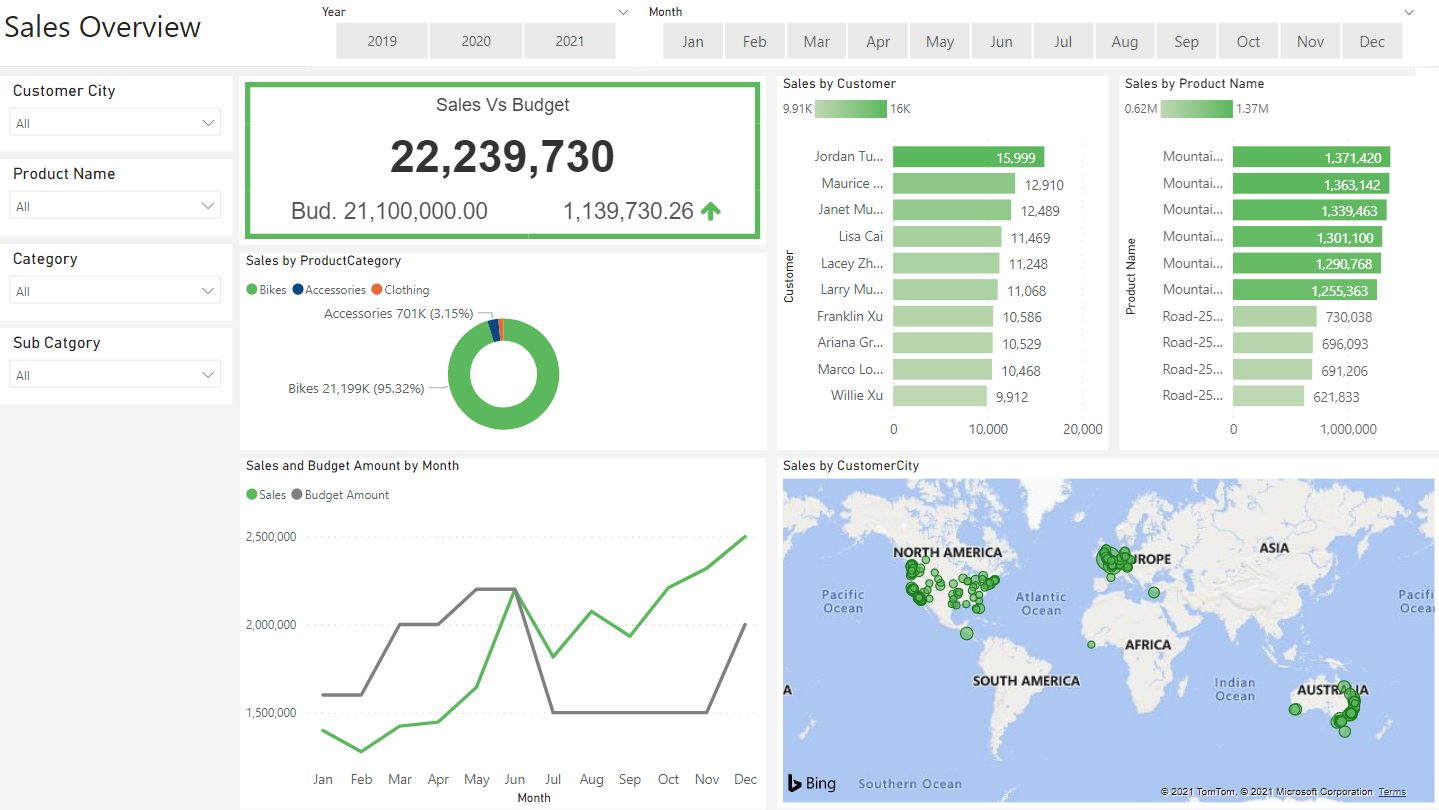

What the dashboard file says about the page in this screenshot:
{"tool":"powerbi","page":{"name":"Sales Overview","canvas":[1280,720],"ordinal":0},"visuals":[{"type":"textbox","box":[0,0,1280,60],"z":0},{"type":"slicer","fields":{"Values":["DIM_Customer.CustomerCity"]},"box":[0,68.1,208.1,67.1],"z":1000},{"type":"slicer","title":"Sub Category","fields":{"Values":["DIM_Product.ProductSubCategory"]},"box":[0,292.1,207.7,68.4],"z":2000},{"type":"slicer","title":"Sub Category","fields":{"Values":["DIM_Product.ProductCategory"]},"box":[0,217.5,207.7,68.4],"z":3000},{"type":"slicer","title":"Sub Category","fields":{"Values":["DIM_Product.ProductName"]},"box":[0,142,207.7,68.4],"z":4000},{"type":"slicer","fields":{"Values":["DIM_Calendar.Year"]},"box":[274.2,0,298.2,60],"z":5000},{"type":"slicer","fields":{"Values":["DIM_Calendar.MonthShort"]},"box":[564.4,0,705.6,60],"z":6000},{"type":"BBED0A4D4D8D44CE93CF2DAFADEE466C","fields":{"actual":["Key Measures.Sales"],"target1":["Key Measures.Budget Amount"],"target2":["Key Measures.Sales - Budgets"]},"box":[214,68.4,467.9,150],"z":7000},{"type":"donutChart","fields":{"Category":["DIM_Product.ProductCategory"],"Y":["Key Measures.Sales"]},"box":[214.8,225.5,467.9,174.9],"z":8000},{"type":"lineChart","fields":{"Y":["Key Measures.Sales","Key Measures.Budget Amount"],"Category":["DIM_Calendar.MonthShort"]},"box":[214.8,407.5,467,311.6],"z":9000},{"type":"barChart","fields":{"Y":["Key Measures.Sales"],"Category":["DIM_Customer.FullName"]},"box":[691.6,68.4,293.9,332],"z":10000},{"type":"barChart","fields":{"Y":["Key Measures.Sales"],"Category":["DIM_Product.ProductName"]},"box":[995.2,68.4,285,332],"z":11000},{"type":"map","fields":{"Category":["DIM_Customer.CustomerCity"],"Size":["Key Measures.Sales"]},"box":[691.6,407.5,588.6,310.7],"z":12000}]}

Visuals, with their boxes in screenshot pixels (x1, y1, x2, y2), scaled from the page's 1280x720 canvas onto the 1439x810 screenshot:
textbox: 0 0 1438 68
slicer - DIM_Customer.CustomerCity: 0 77 234 152
"Sub Category" slicer: 0 329 234 406
"Sub Category" slicer: 0 245 234 322
"Sub Category" slicer: 0 160 234 237
slicer - DIM_Calendar.Year: 308 0 644 68
slicer - DIM_Calendar.MonthShort: 635 0 1428 68
BBED0A4D4D8D44CE93CF2DAFADEE466C - Key Measures.Sales x Key Measures.Budget Amount: 241 77 767 246
donutChart - DIM_Product.ProductCategory x Key Measures.Sales: 241 254 768 450
lineChart - Key Measures.Sales x Key Measures.Budget Amount: 241 458 766 809
barChart - Key Measures.Sales x DIM_Customer.FullName: 778 77 1108 450
barChart - Key Measures.Sales x DIM_Product.ProductName: 1119 77 1438 450
map - DIM_Customer.CustomerCity x Key Measures.Sales: 778 458 1438 808
